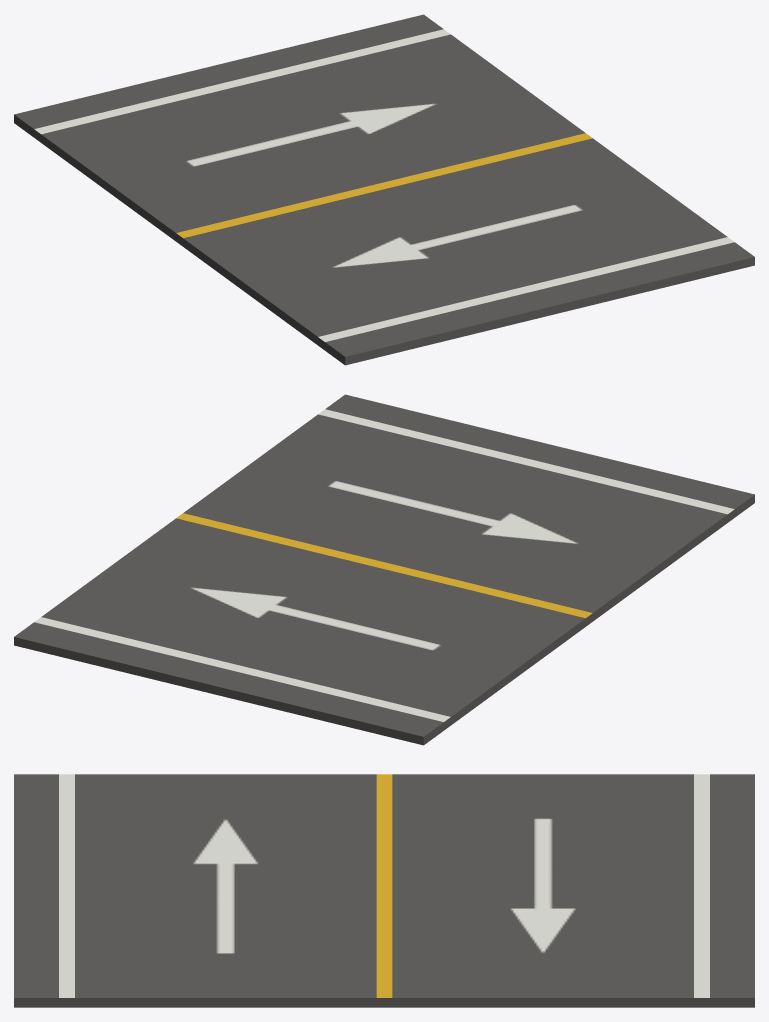
Rendered from SM_Ground_RoadArrow_700x500_01.fbx.
The picture shows the model from 3 angles, top to bottom: view 1: azimuth 30°, elevation 25°; view 2: azimuth 150°, elevation 25°; view 3: azimuth 270°, elevation 25°; orthographic projection. The views are drawn at different scales.
Parts seen in each view (by area): view 1: SM_Ground_RoadArrow_700x500_01; view 2: SM_Ground_RoadArrow_700x500_01; view 3: SM_Ground_RoadArrow_700x500_01.
Part boxes in pixels (x1,y1,x2,y2): SM_Ground_RoadArrow_700x500_01: (14,14,754,365); SM_Ground_RoadArrow_700x500_01: (14,394,754,745); SM_Ground_RoadArrow_700x500_01: (14,774,754,1007).
Bounding box in the file's own units: 5 × 0.1 × 7.
1 material, 1 textured.
